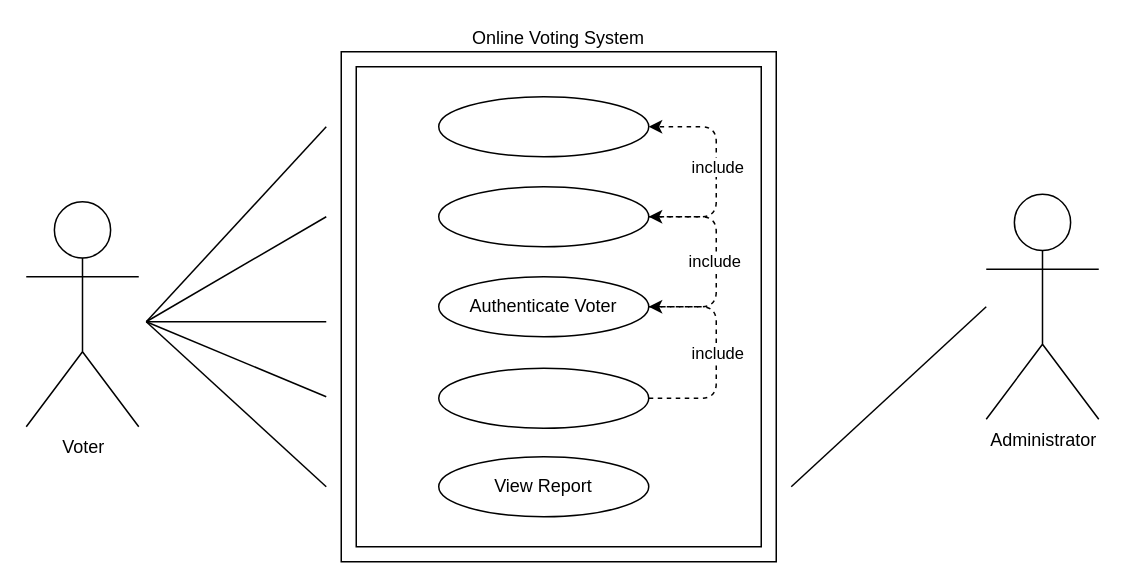
This 1125x588 diagram has some shape labels left out. Here are the shapes that lost their labels. From the top down, the centre of each, then its label:
At point 543,126: "Register Voter".
At point 543,216: "Get Voter ID".
At point 543,397: "Cast Vote".
